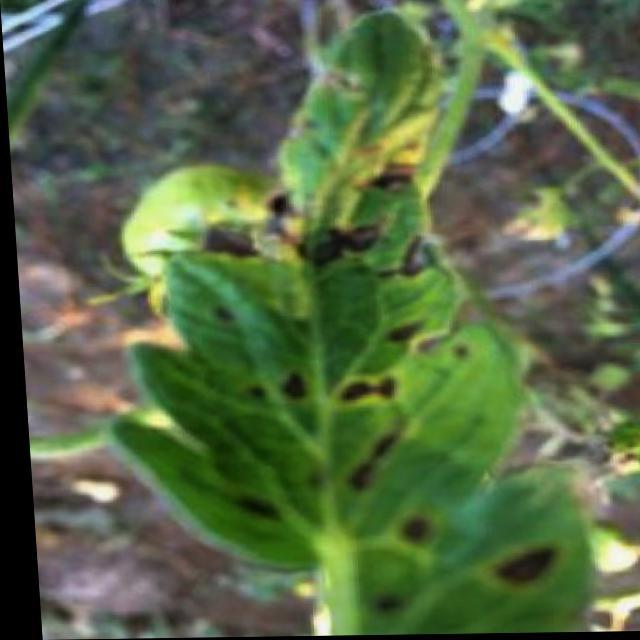Tomato Septoria spot leaf: (70, 11, 602, 638)
